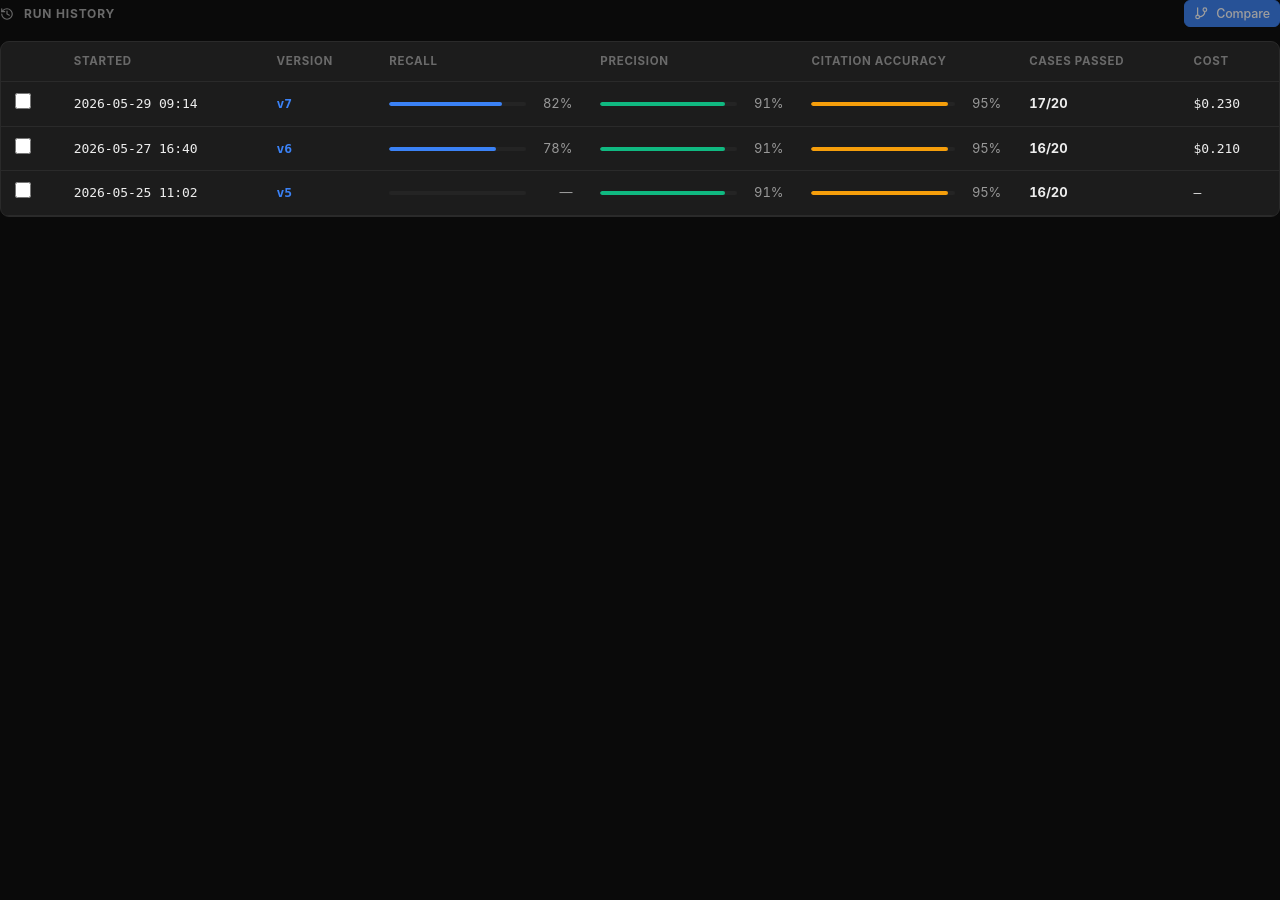
Test: RunHistory › opens the compare view for the two selected runs
This screenshot has width=1280, height=900.
Click the checkbox named "Select run 2026-05-29 09:14" at x=23, y=101, box [15,93,31,109]
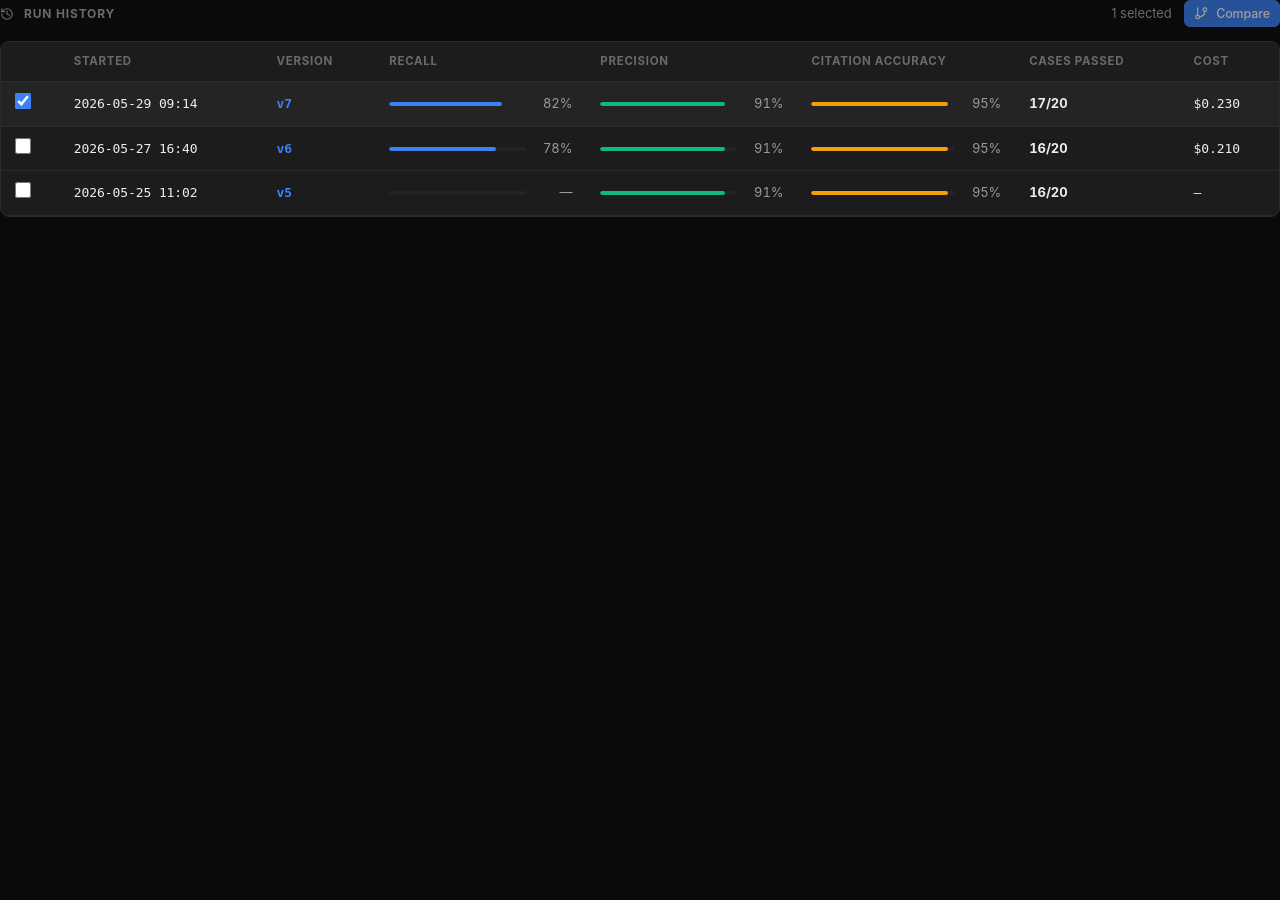
Click the checkbox named "Select run 2026-05-27 16:40" at x=23, y=146, box [15,138,31,154]
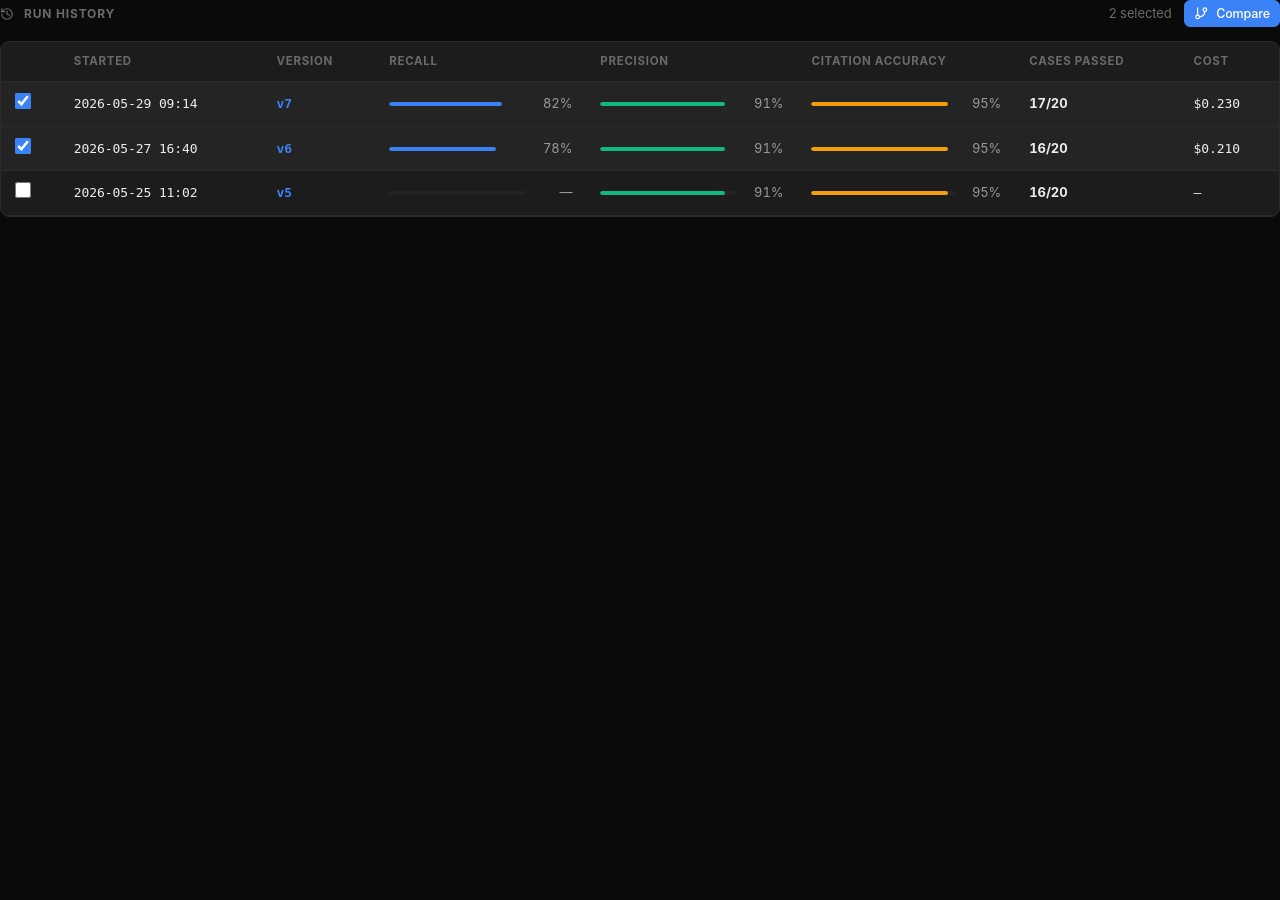
Click the button "Compare" at x=1232, y=14, box [1184,0,1279,27]
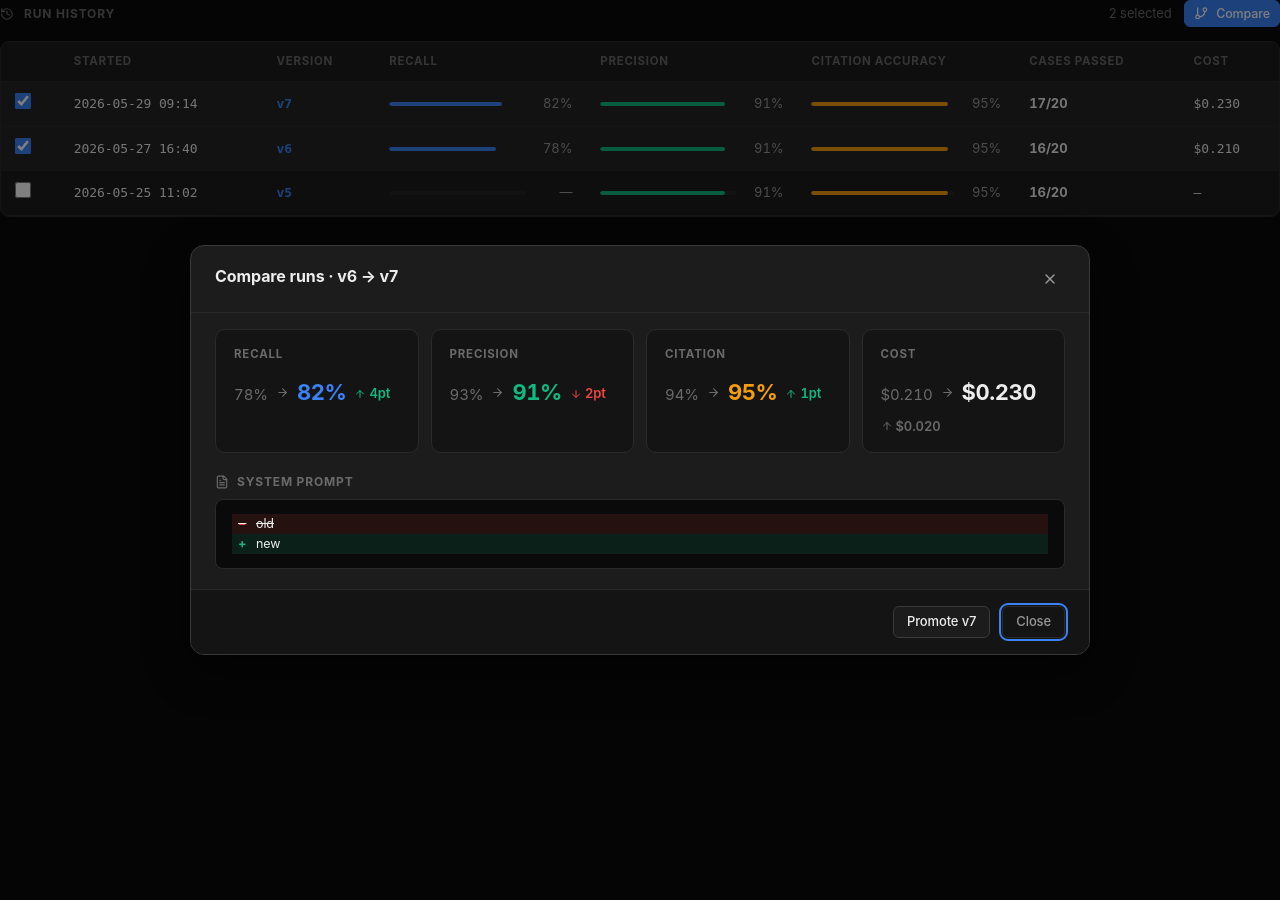
Result: the text "Compare runs · v6 → v7" is shown at [215,266,398,286]
